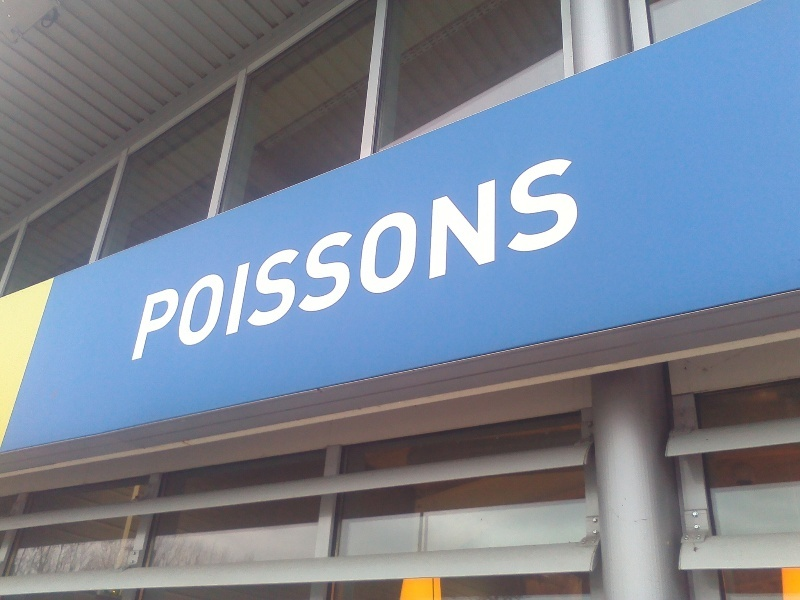text: (161, 150, 176, 362), (177, 150, 192, 362), (193, 150, 208, 362), (209, 150, 224, 362), (225, 150, 240, 362), (241, 150, 256, 362), (257, 150, 272, 362), (273, 150, 288, 362), (289, 150, 304, 362), (305, 150, 320, 362), (321, 150, 336, 362), (337, 150, 352, 362), (353, 150, 368, 362), (369, 150, 384, 362), (385, 150, 400, 362), (401, 150, 416, 362), (417, 150, 432, 362), (433, 150, 448, 362), (449, 150, 464, 362), (465, 150, 480, 362), (481, 150, 496, 362), (497, 150, 512, 362), (513, 150, 528, 362), (529, 150, 544, 362), (545, 150, 560, 362), (561, 150, 576, 362), (147, 150, 160, 362), (577, 150, 581, 362)
